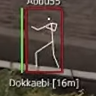hacks_3: (9, 1, 79, 90)
